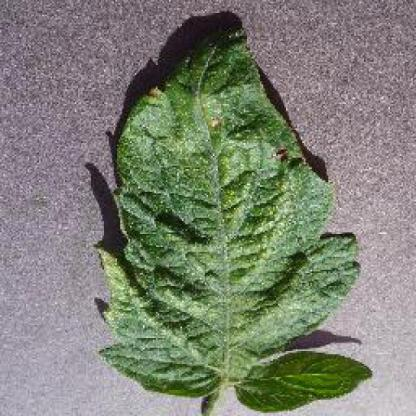Tomato_Spider_Mites: (98, 35, 371, 408)
